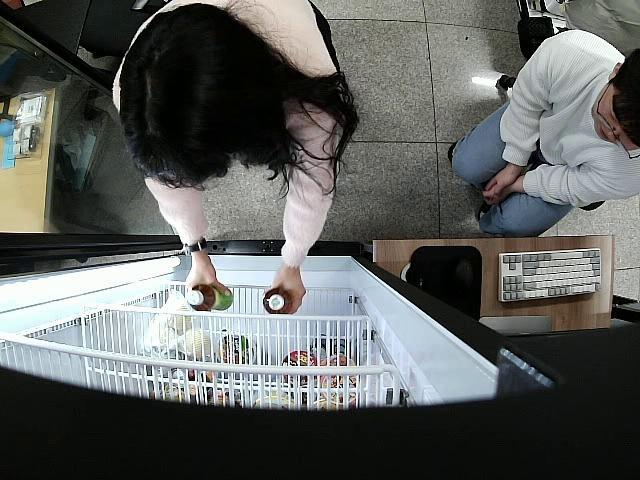19_17cha: (186, 280, 234, 314), (264, 287, 292, 318)
